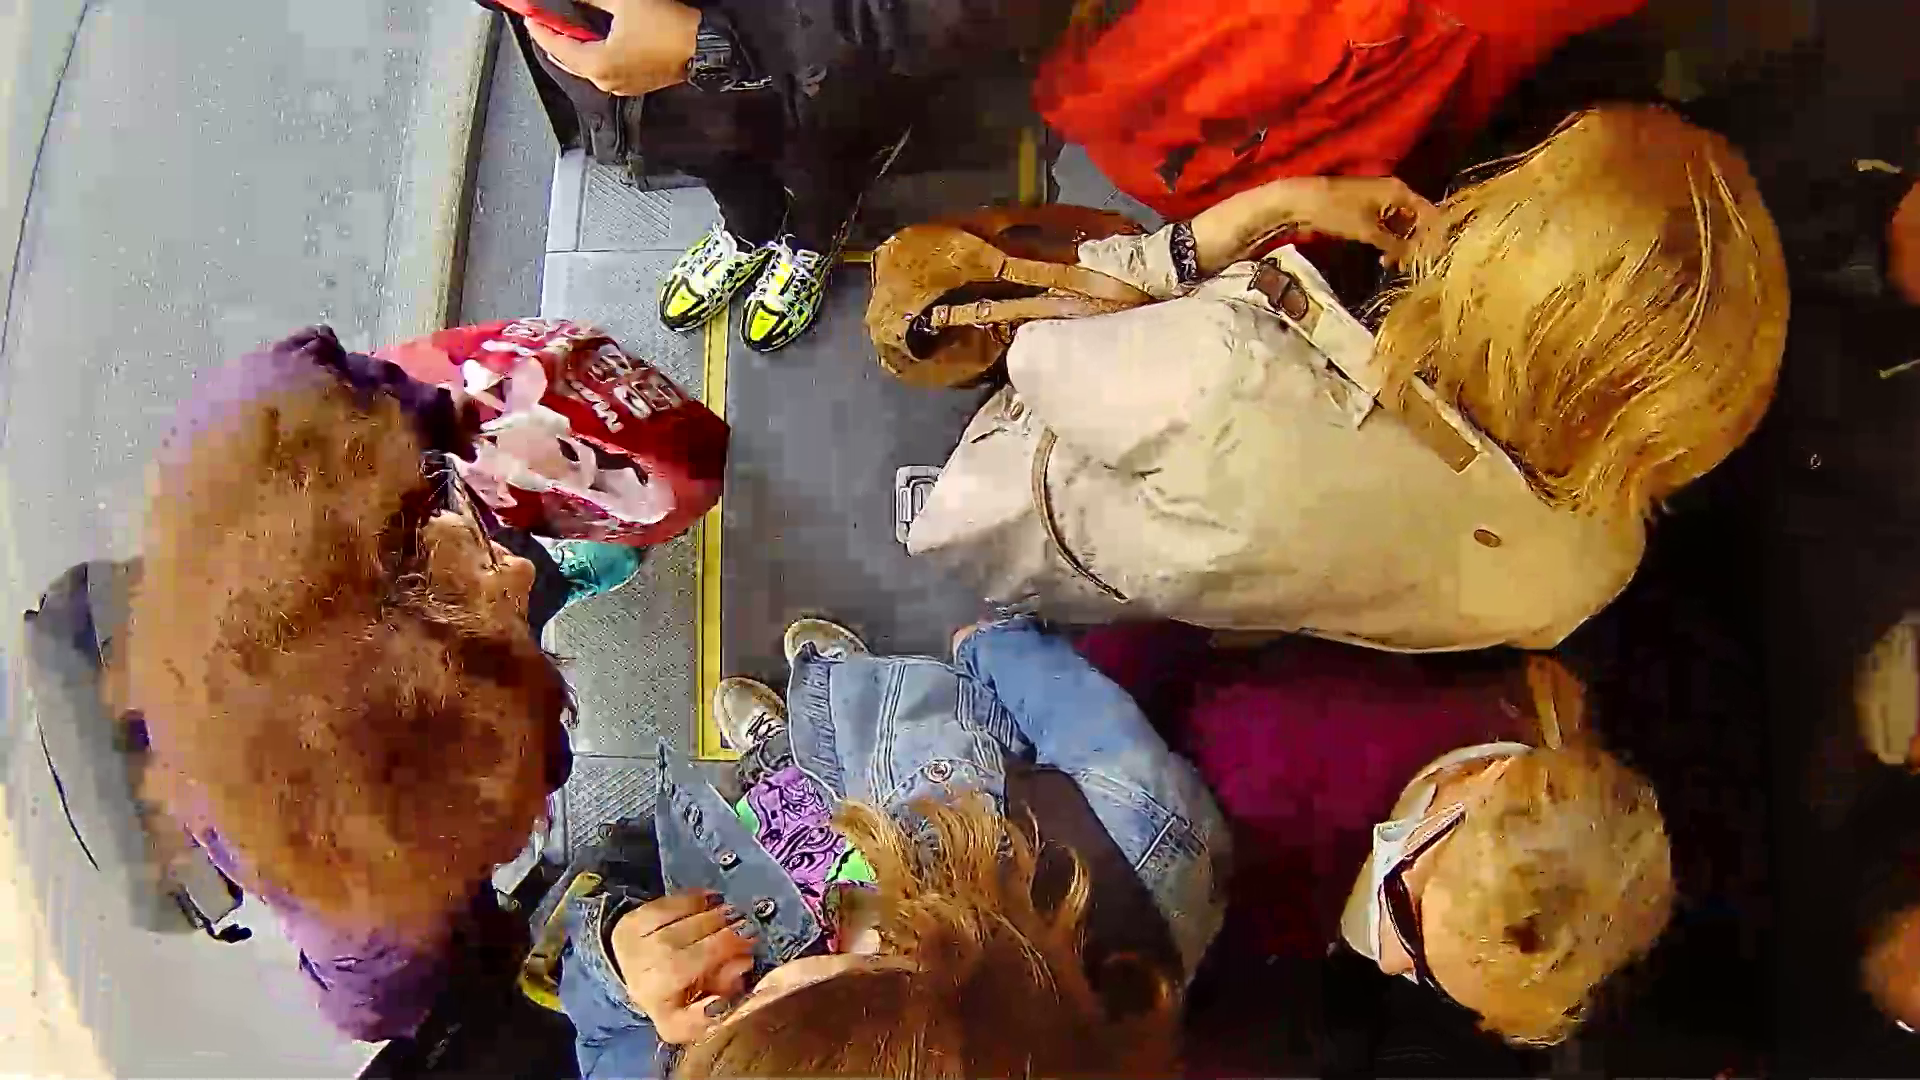person: (951, 136, 1814, 667), (105, 276, 704, 914), (1002, 631, 1723, 1040), (569, 632, 1227, 1049)
